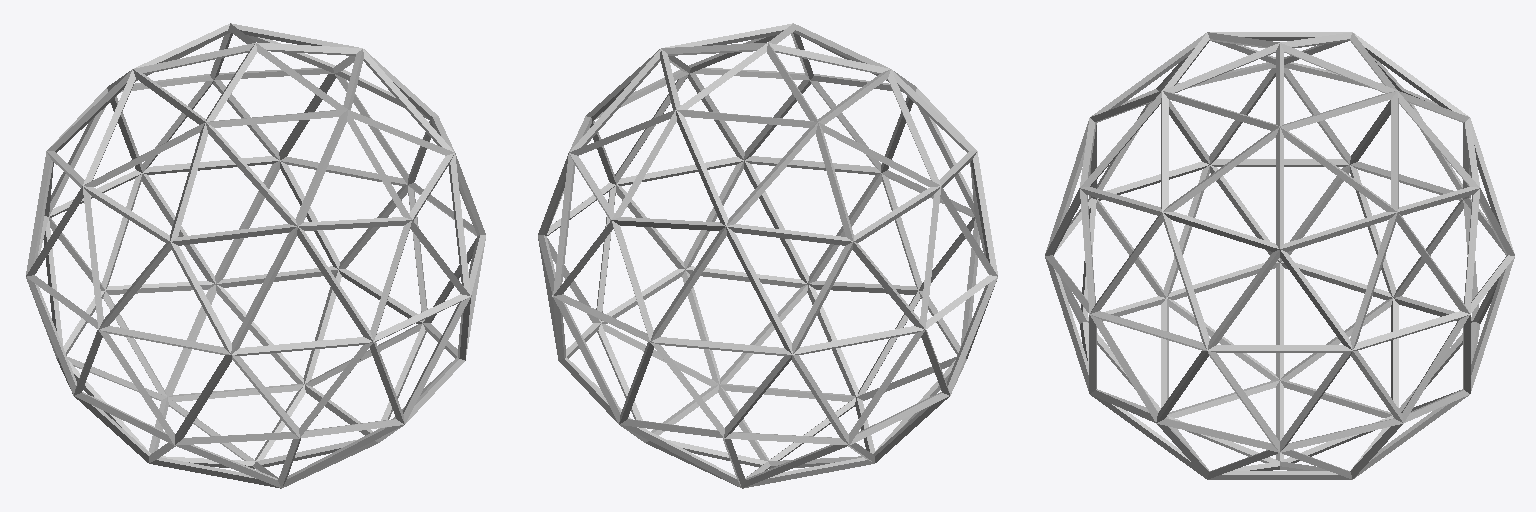
File: icosphereWireframe.obj
3 views of the same model, side by side, from view 1: azimuth 30°, elevation 25°; view 2: azimuth 150°, elevation 25°; view 3: azimuth 270°, elevation 25° (orthographic).
Parts seen in each view (by area): view 1: Icosphere; view 2: Icosphere; view 3: Icosphere.
Part boxes in pixels (x1,y1,x2,y2): Icosphere: (26,23,485,488); Icosphere: (538,23,997,488); Icosphere: (1045,32,1514,479).
Bounding box in the file's own units: 1.94 × 2.04 × 2.04.